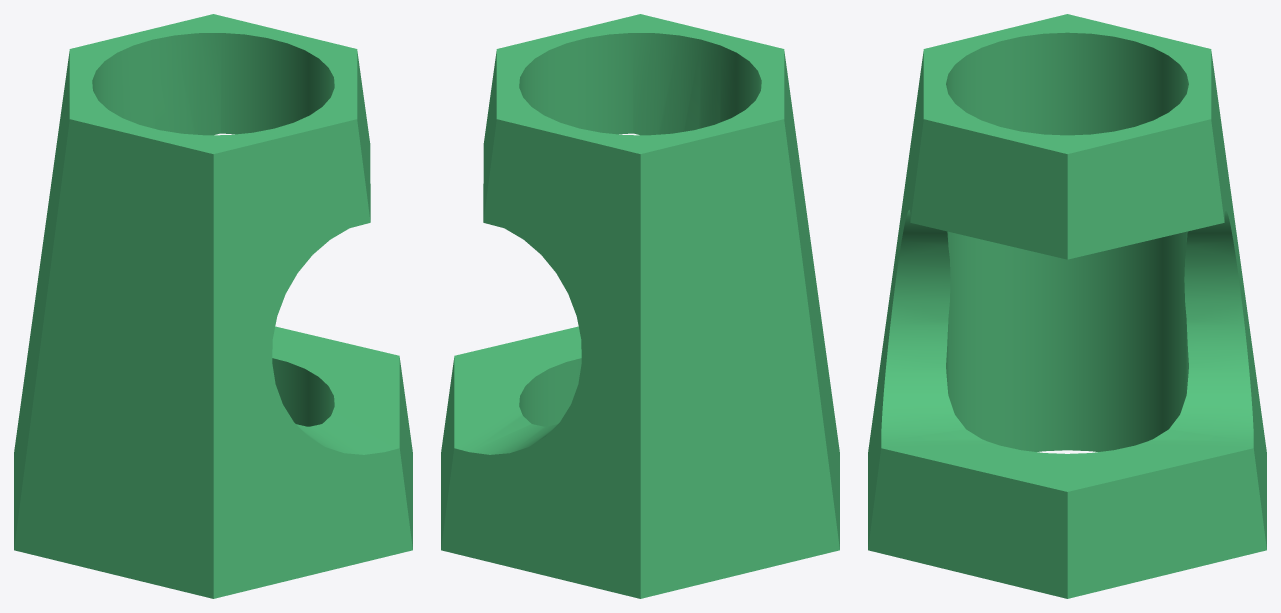
The model's file is var_13.glb.
3 views of the same model, side by side, from view 1: azimuth 30°, elevation 25°; view 2: azimuth 150°, elevation 25°; view 3: azimuth 270°, elevation 25° (orthographic).
Parts seen in each view (by area): view 1: Cylinder.004; view 2: Cylinder.004; view 3: Cylinder.004.
Boxes of the visible parts, x1,y1,x2,y2 form: Cylinder.004: (14, 14, 412, 598); Cylinder.004: (441, 14, 839, 598); Cylinder.004: (868, 14, 1266, 598).
Bounding box in the file's own units: 2 × 2 × 1.73.
